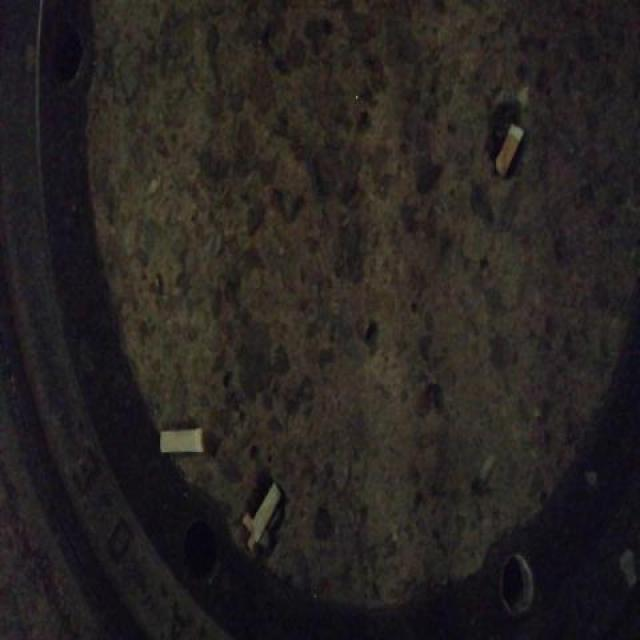non-organic waste: (247, 476, 285, 548), (489, 117, 526, 182), (155, 423, 208, 461)
